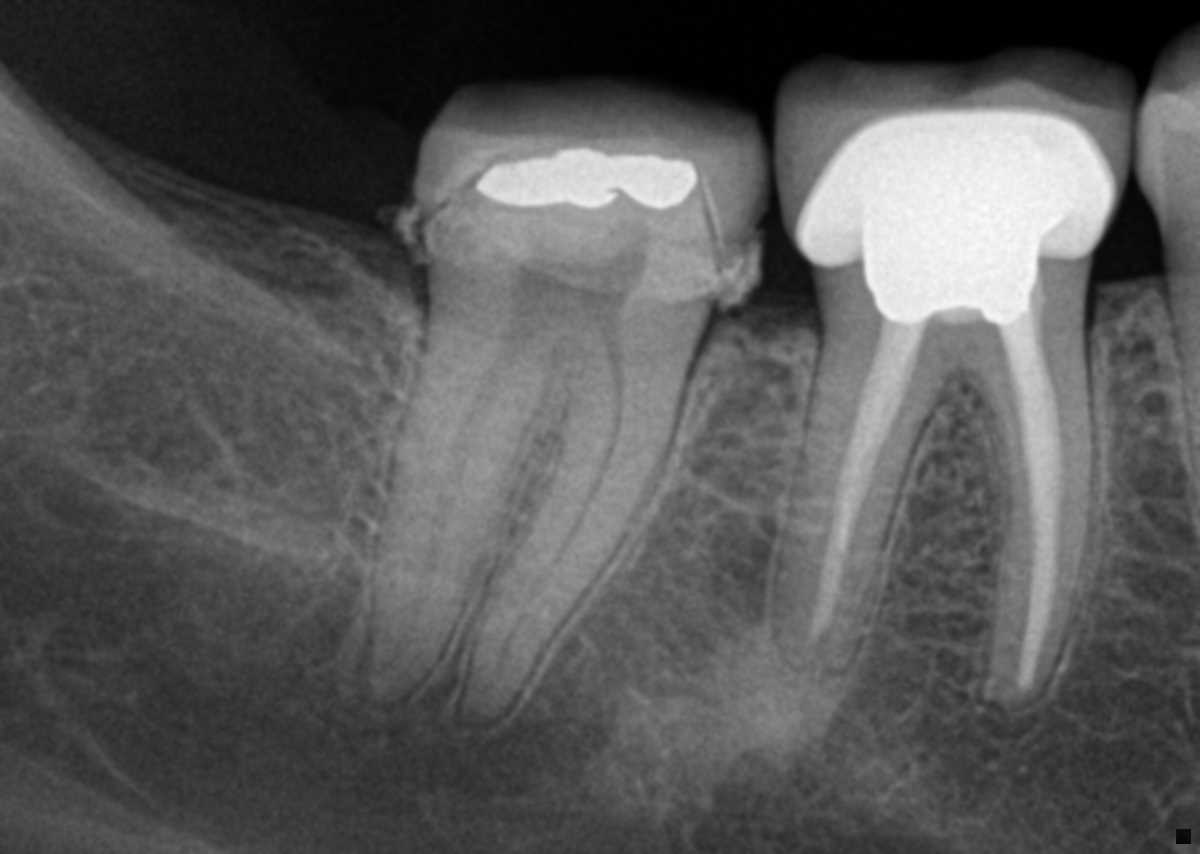Distal Canal: (369, 292, 557, 696)
Distal Root: (360, 261, 576, 718), (775, 308, 954, 674)
Mesial Canal: (483, 305, 627, 711)
Mesial Root: (456, 290, 718, 732), (957, 283, 1097, 711)
Root Canal Filling: (805, 325, 927, 658), (998, 314, 1063, 693)
